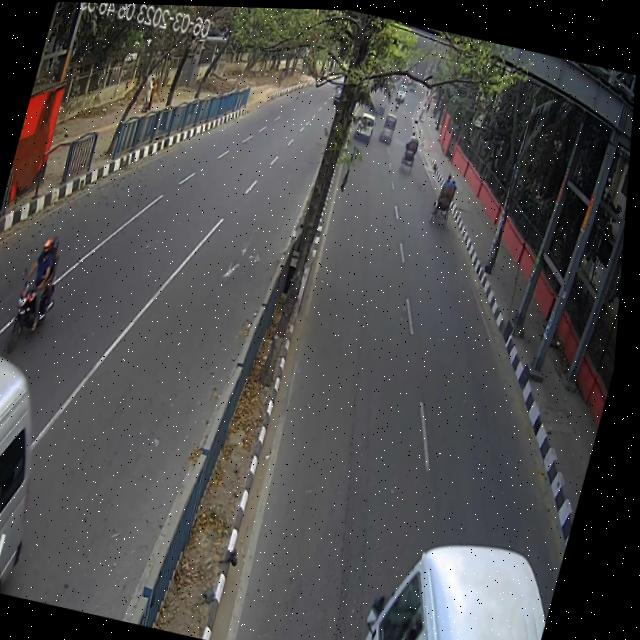cng: (379, 107, 402, 146)
rikshaw: (429, 169, 463, 231), (401, 126, 425, 172)
